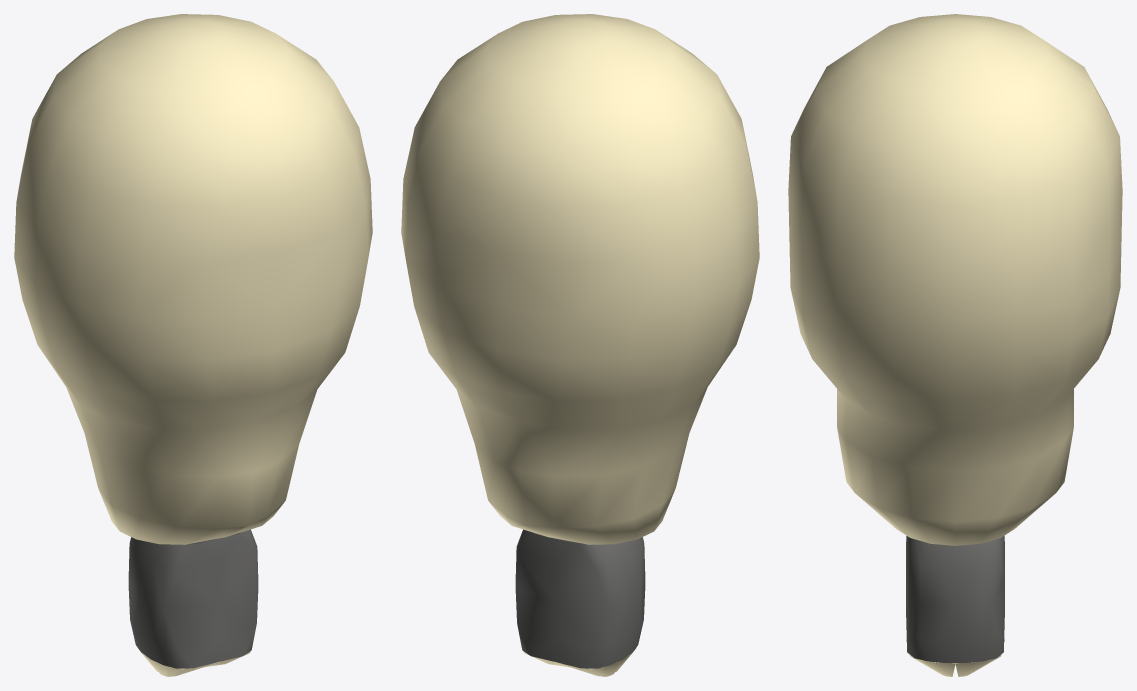
File: Lampada.fbx
3 renders of one model, left to right at view 1: azimuth 30°, elevation 25°; view 2: azimuth 150°, elevation 25°; view 3: azimuth 270°, elevation 25°, orthographic.
Visible parts, largest first — view 1: Lampada, Ferro, Final; view 2: Lampada, Ferro, Final; view 3: Lampada, Ferro, Final.
Part boxes in pixels (x1,y1,x2,y2): Lampada: (14,14,372,544); Ferro: (128,529,258,668); Final: (137,647,250,676); Lampada: (401,14,759,544); Ferro: (515,529,645,668); Final: (523,647,636,676); Lampada: (788,14,1122,545); Ferro: (906,536,1004,662); Final: (906,639,1004,676).
Size of the model in its own units: 253 by 487 by 233.
